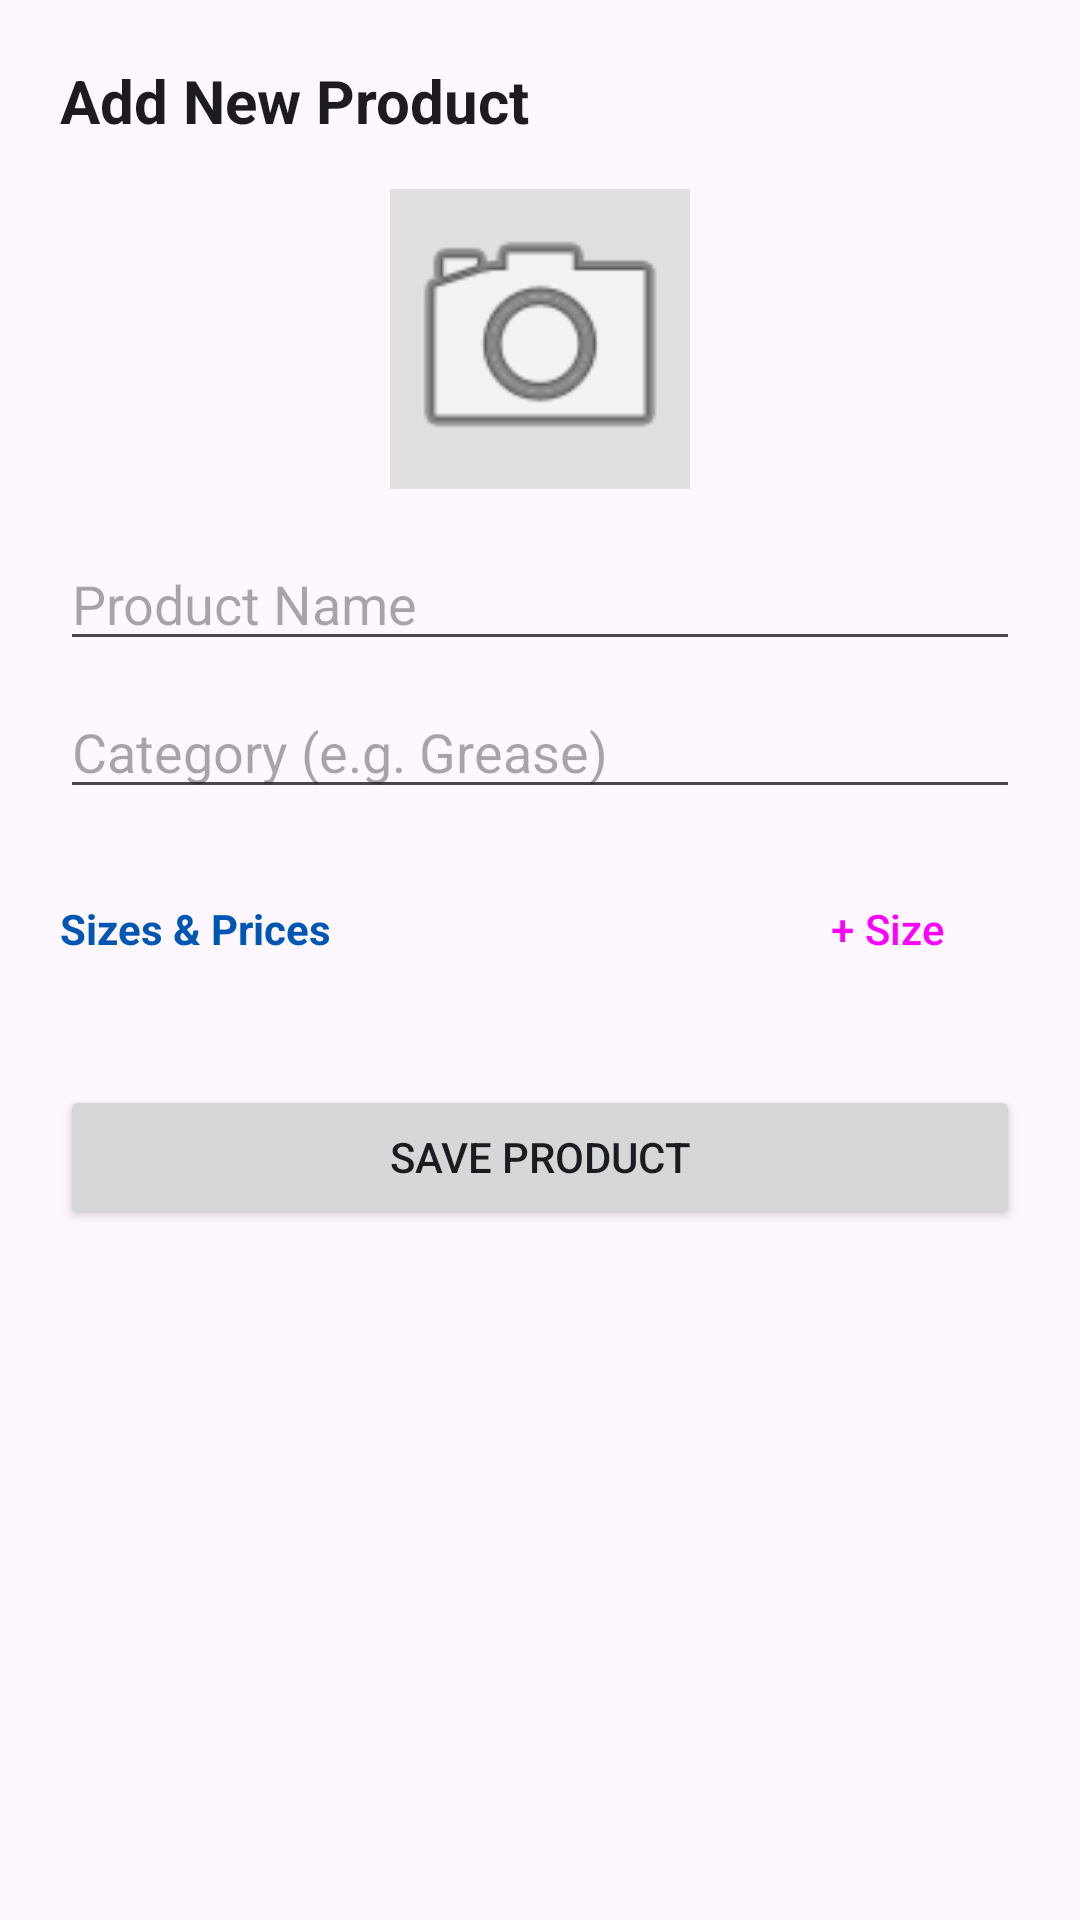

Locate icon controls on the screen. Image size 1080w x 1920h, boxes as rect(x1, y1, x2, y2).
camera: rect(390, 189, 690, 489)
